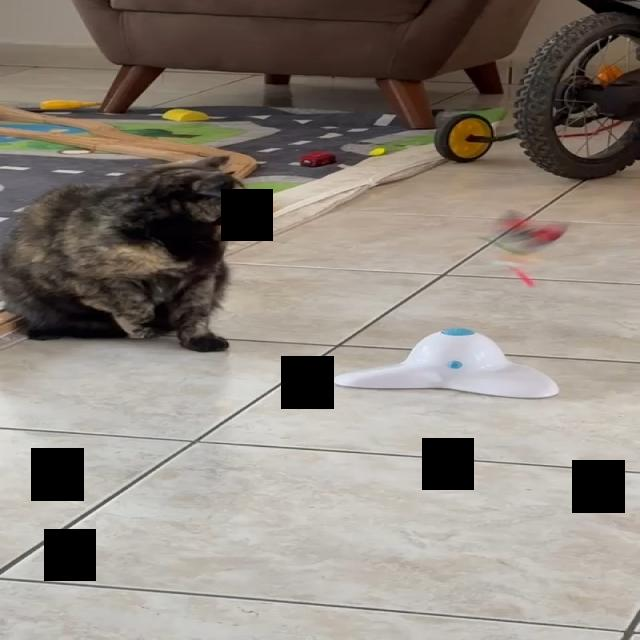authorized: (0, 154, 248, 352)
